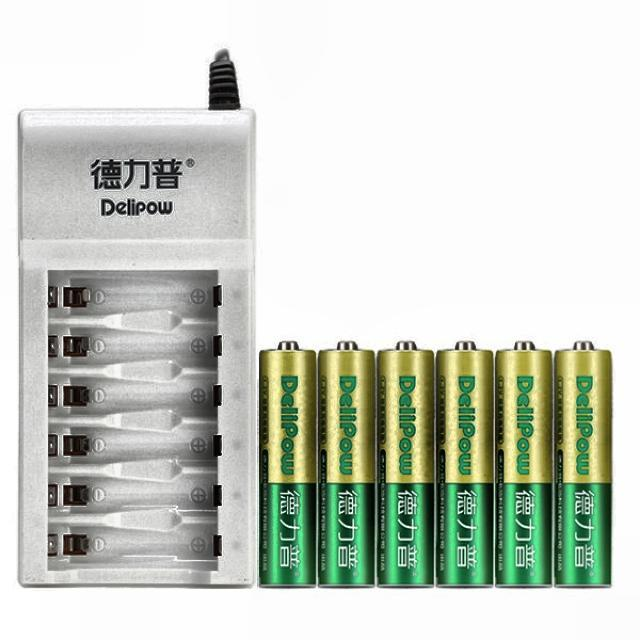battery: (436, 341, 494, 586), (378, 341, 434, 586), (319, 341, 375, 586), (260, 341, 316, 586), (555, 342, 611, 586), (496, 341, 551, 586)
